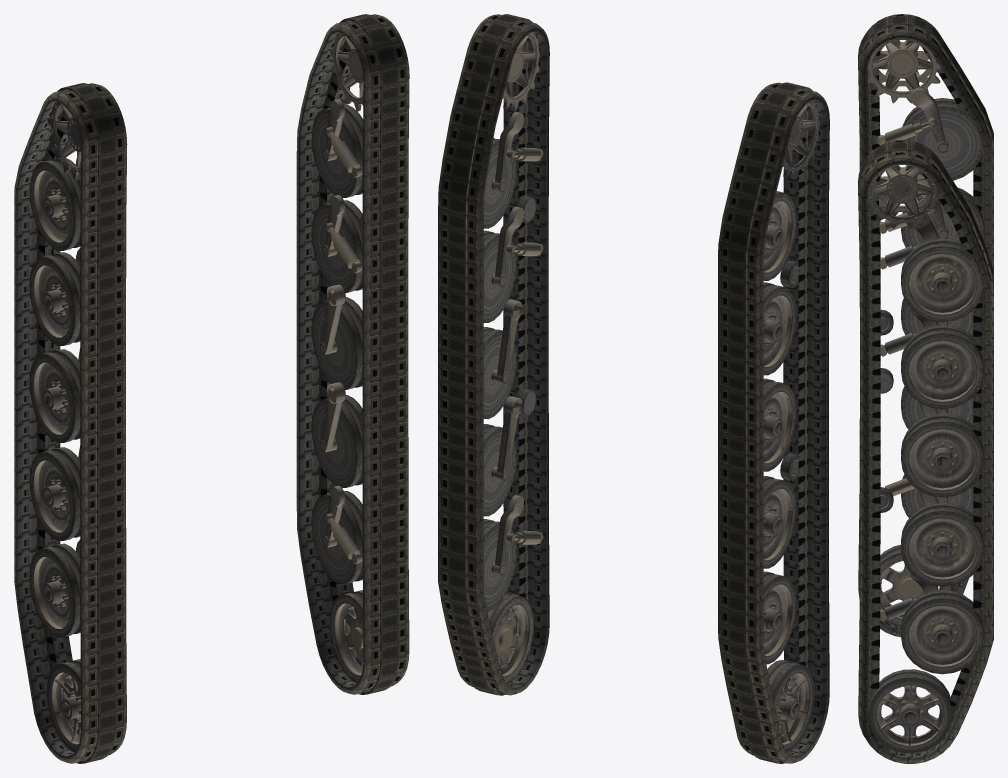
The model's file is Chassis.glb.
3 renders of one model, left to right at view 1: azimuth 30°, elevation 25°; view 2: azimuth 150°, elevation 25°; view 3: azimuth 270°, elevation 25°, orthographic. The views are drawn at different scales.
Parts seen in each view (by area): view 1: set_0_group_0, set_1_group_0, set_3_group_0, set_2_group_0; view 2: set_0_group_0, set_1_group_0, set_3_group_0, set_2_group_0; view 3: set_3_group_0, set_1_group_0, set_2_group_0, set_0_group_0.
Boxes of the visible parts, left/top/right/bottom form: set_0_group_0: left=14, top=83, right=127, bottom=763; set_1_group_0: left=296, top=14, right=409, bottom=694; set_3_group_0: left=311, top=32, right=363, bottom=683; set_2_group_0: left=29, top=101, right=81, bottom=752; set_0_group_0: left=718, top=82, right=829, bottom=763; set_1_group_0: left=438, top=14, right=549, bottom=695; set_3_group_0: left=483, top=32, right=543, bottom=683; set_2_group_0: left=763, top=100, right=819, bottom=752; set_3_group_0: left=868, top=163, right=984, bottom=753; set_1_group_0: left=858, top=139, right=993, bottom=763; set_2_group_0: left=868, top=38, right=984, bottom=626; set_0_group_0: left=858, top=14, right=993, bottom=637.
Size of the model in its own units: 2.51 by 4.95 by 0.9951.
4 materials, 4 textured.
